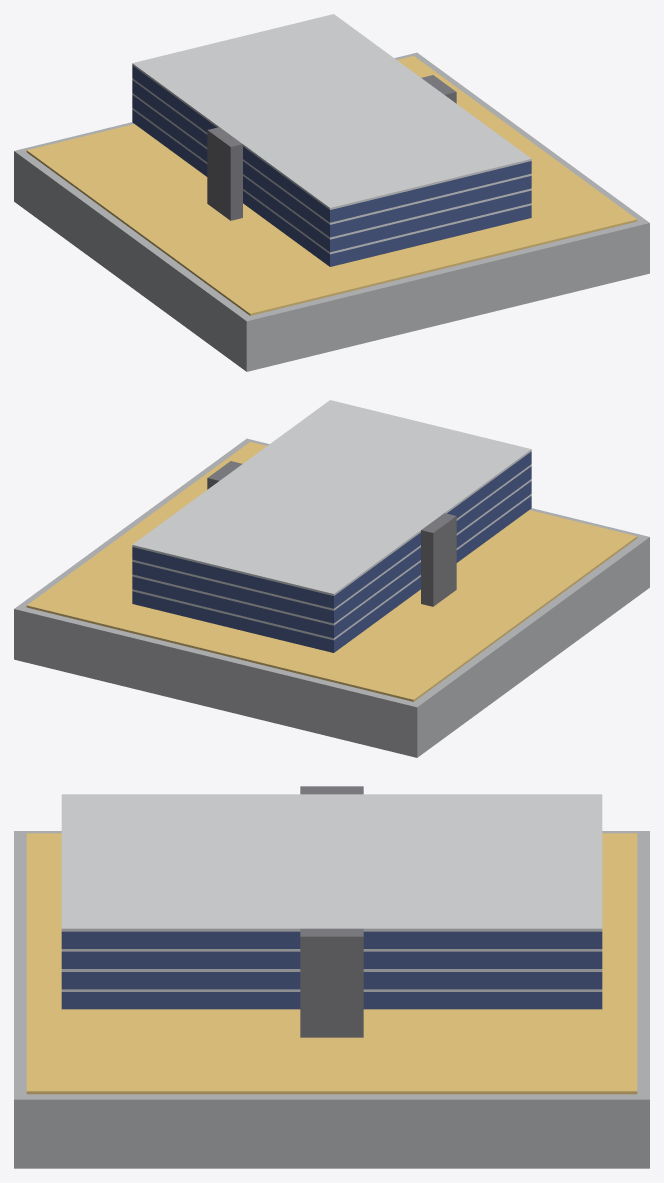
Rendered from rover28_solar_mount_s.glb.
3 views of the same model, one above another, from view 1: azimuth 30°, elevation 25°; view 2: azimuth 150°, elevation 25°; view 3: azimuth 270°, elevation 25° (orthographic). The views are drawn at different scales.
Visible parts, largest first — view 1: panel_frames, base, base_foil, panel_stack, stow_clamps; view 2: panel_frames, base, base_foil, panel_stack, stow_clamps; view 3: panel_frames, base_foil, base, panel_stack, stow_clamps.
Part boxes in pixels (box(x1,y1,x2,y2)): panel_frames: box(132, 14, 531, 254); base: box(14, 52, 649, 371); base_foil: box(26, 56, 637, 315); panel_stack: box(132, 65, 531, 266); stow_clamps: box(207, 75, 456, 220); panel_frames: box(132, 400, 531, 640); base: box(14, 438, 649, 757); base_foil: box(26, 442, 637, 701); panel_stack: box(132, 451, 531, 652); stow_clamps: box(207, 461, 456, 606); panel_frames: box(61, 794, 602, 991); base_foil: box(26, 833, 637, 1094); base: box(14, 831, 649, 1168); panel_stack: box(61, 931, 602, 1009); stow_clamps: box(300, 786, 363, 1037).
Bounding box in the file's own units: 1 × 0.3 × 1.
